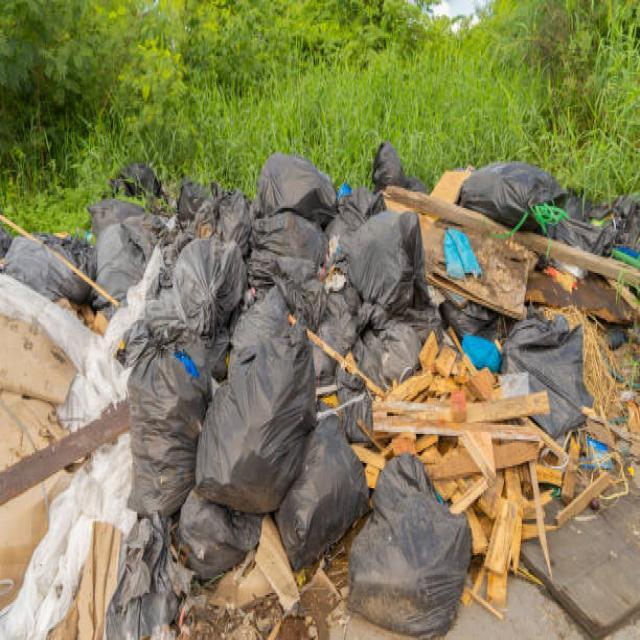garbage: (123, 294, 307, 582), (374, 445, 464, 633), (286, 412, 370, 562), (502, 314, 596, 434), (254, 142, 332, 274), (349, 211, 427, 310), (2, 222, 94, 303), (462, 153, 564, 224), (333, 319, 420, 402), (94, 190, 160, 296), (168, 242, 245, 328), (177, 174, 251, 254), (372, 133, 404, 192), (445, 226, 478, 282), (114, 162, 162, 194), (462, 328, 499, 368)
